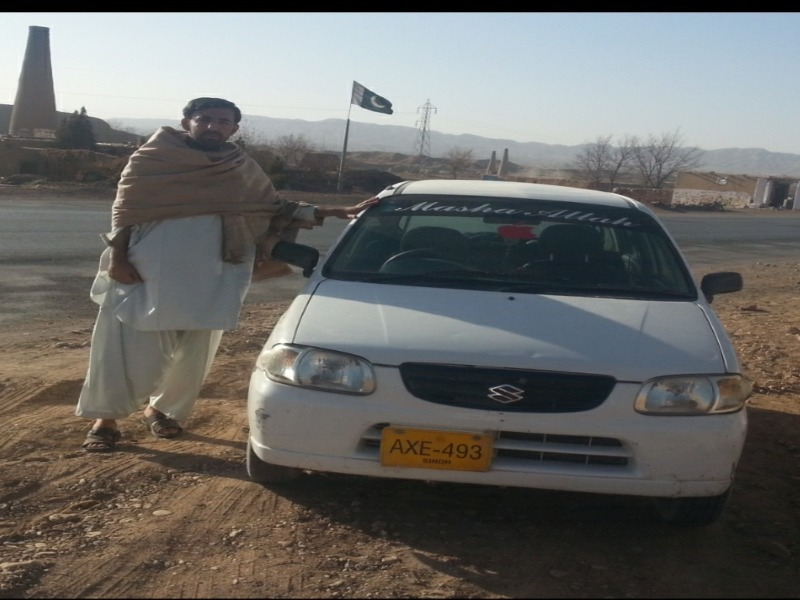License Plate: (378, 423, 495, 482)
